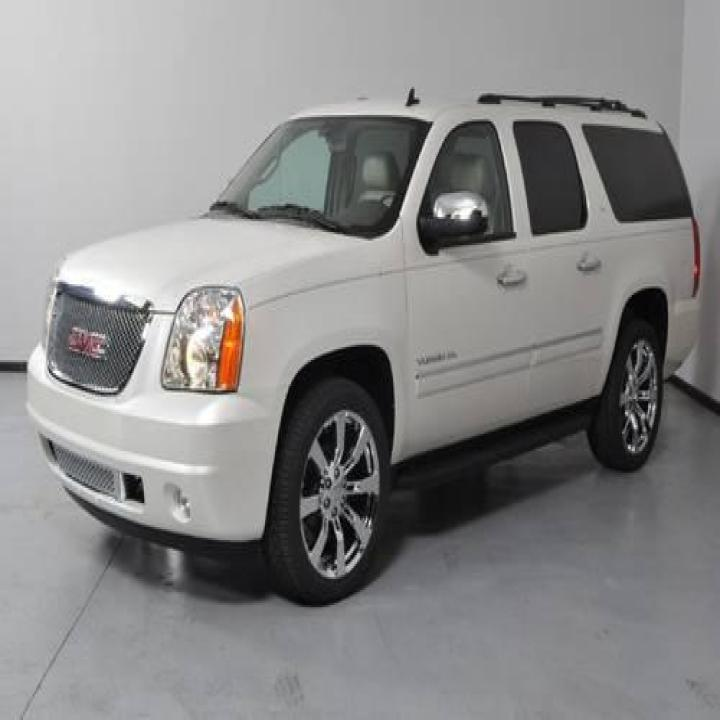car: (24, 85, 702, 605)
